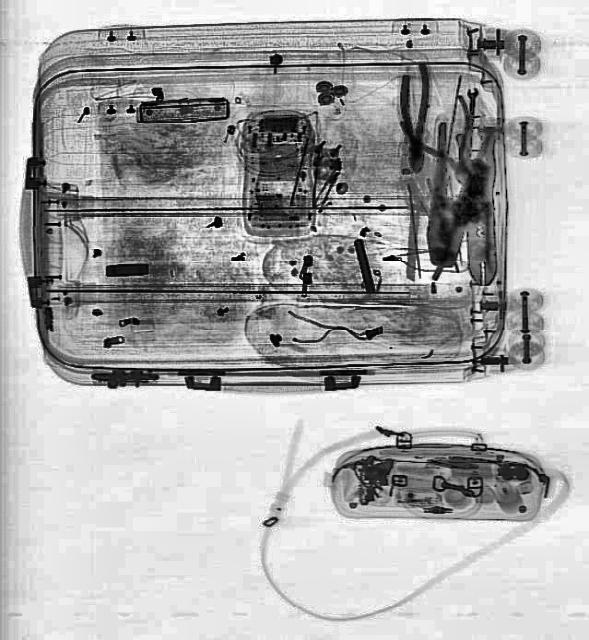Pliers: (413, 119, 491, 271), (404, 93, 500, 195), (460, 131, 498, 285), (396, 64, 432, 174)
